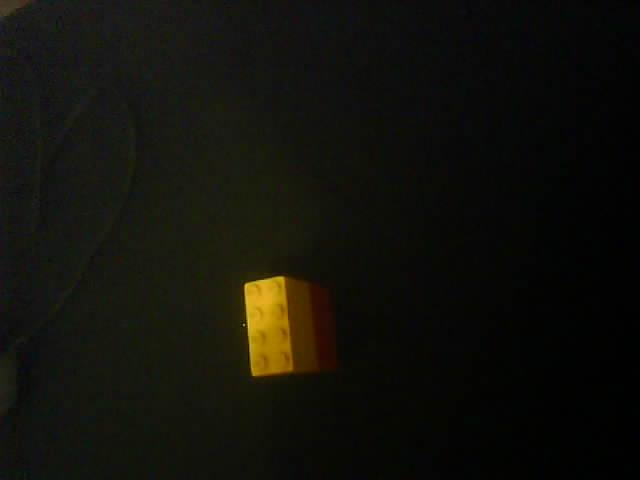lego: (242, 274, 338, 378)
